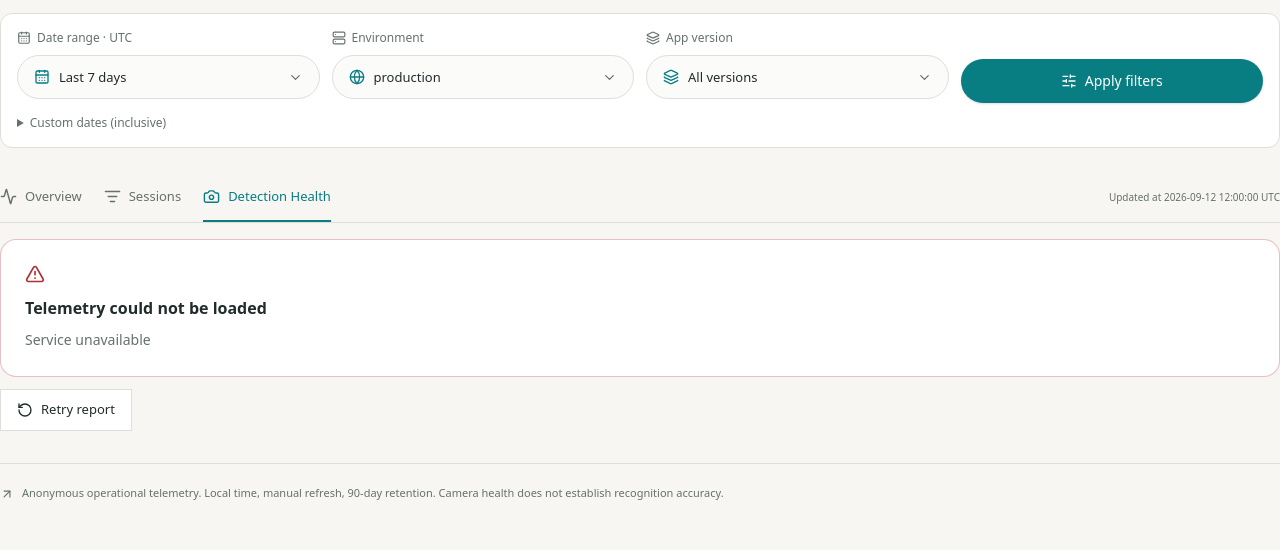
Test case: offers a retry when a lazy view fails
Expected: the text "Service unavailable" is shown, [25,330,151,349]
Click the button "Retry report": (66, 410) [0,389,132,431]
(page scrolled)
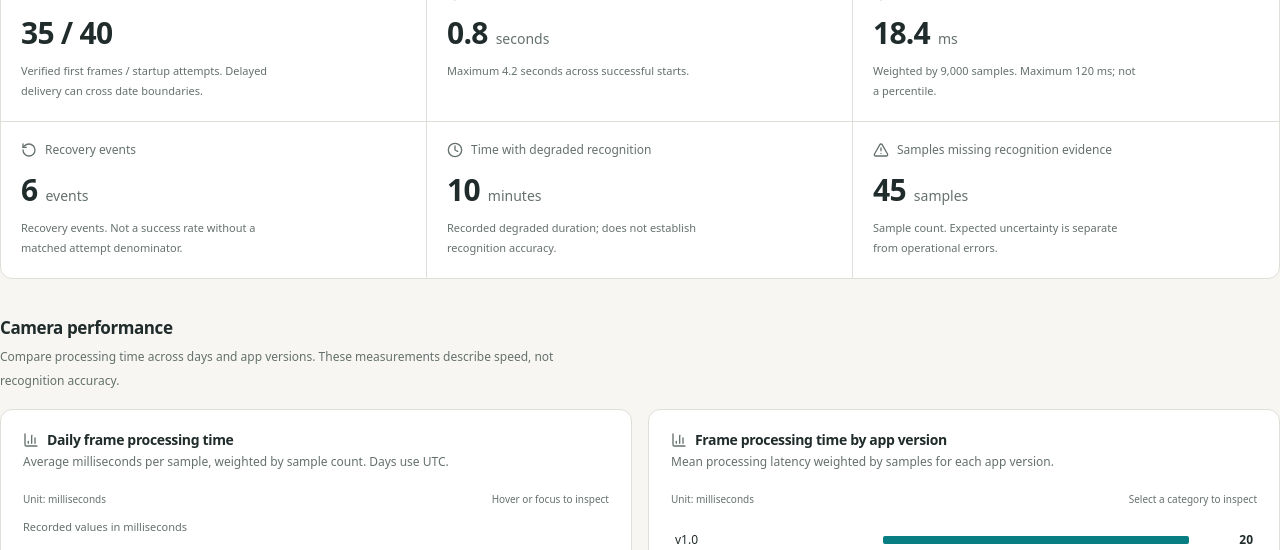
Expected: the heading "Camera performance" is shown, [0,316,172,339]
